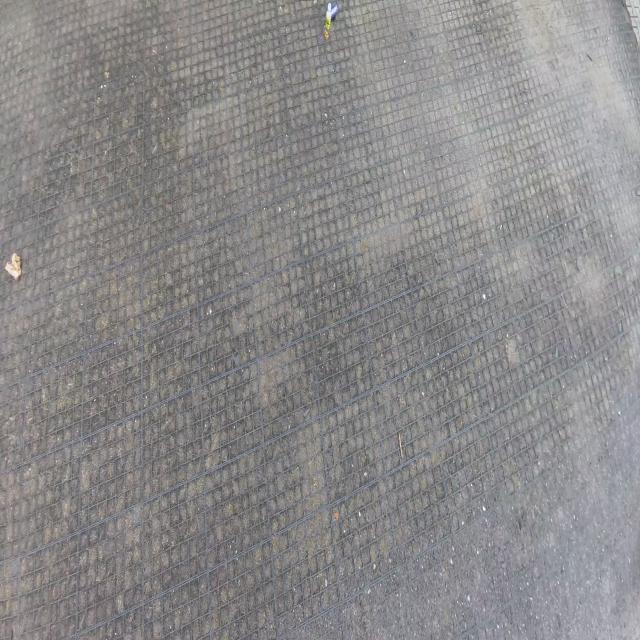rubbish: (4, 252, 22, 283), (323, 4, 331, 37), (331, 4, 338, 21)
